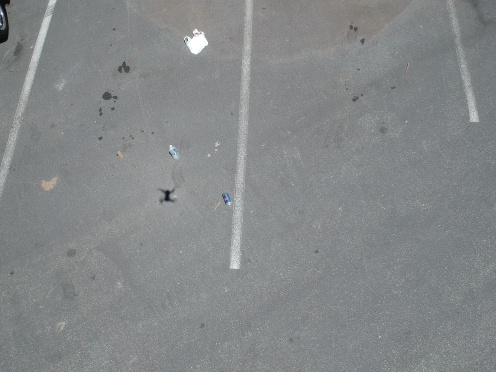bottle: (166, 142, 181, 164)
can: (218, 191, 233, 206)
plastic bag: (177, 23, 211, 57)
